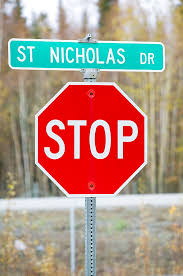Stop: (31, 80, 153, 197)
